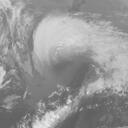cyclone: (35, 31, 103, 96)
